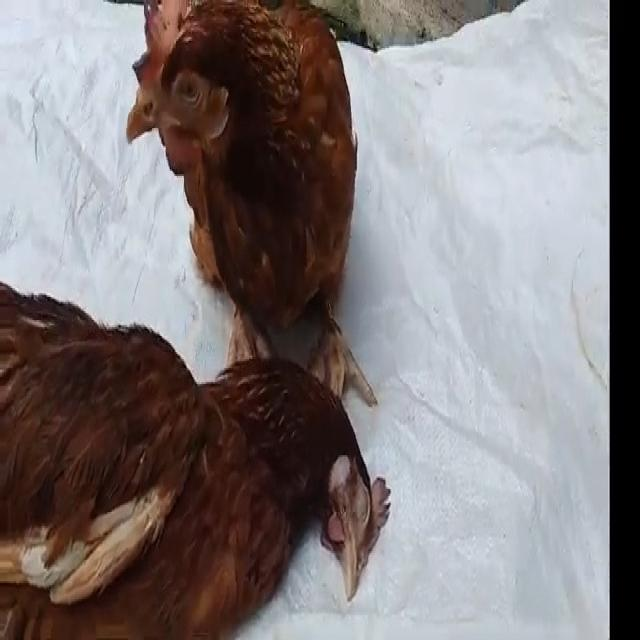bird flu: (110, 0, 433, 382)
dead: (0, 297, 407, 640)
